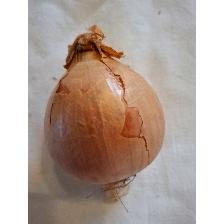Zwiebel: (42, 23, 168, 202)
